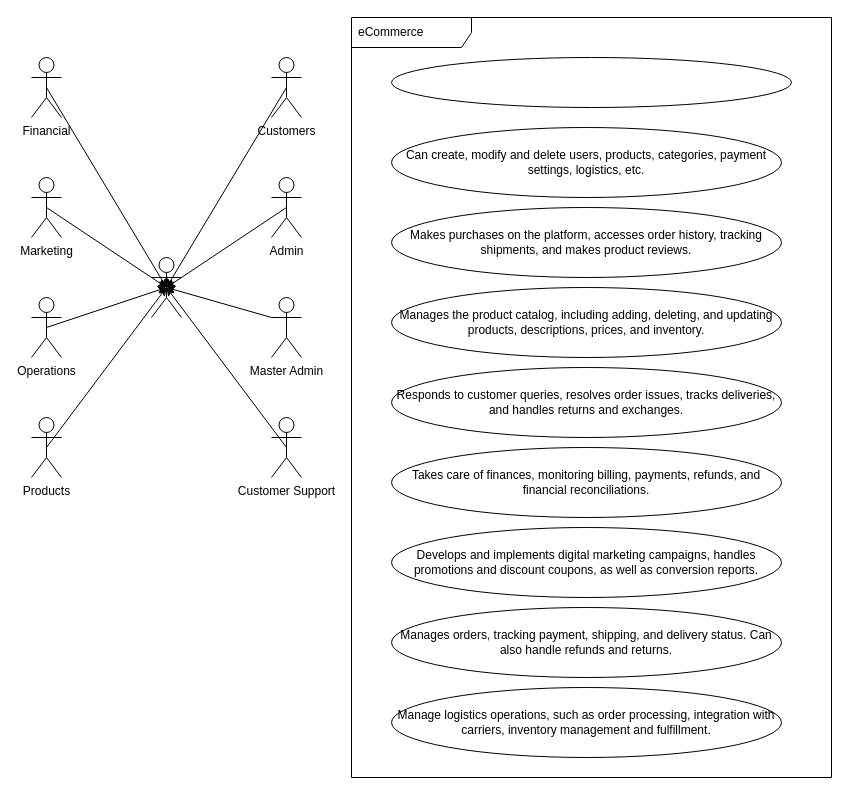
Image size: 849x795. Some labels were removed from this diagram. Here are the shapes that lost their labels. From the top down, the centre of each, then its label:
the point at 591,82: Has full access to all platform functions.
the point at 166,287: Users
